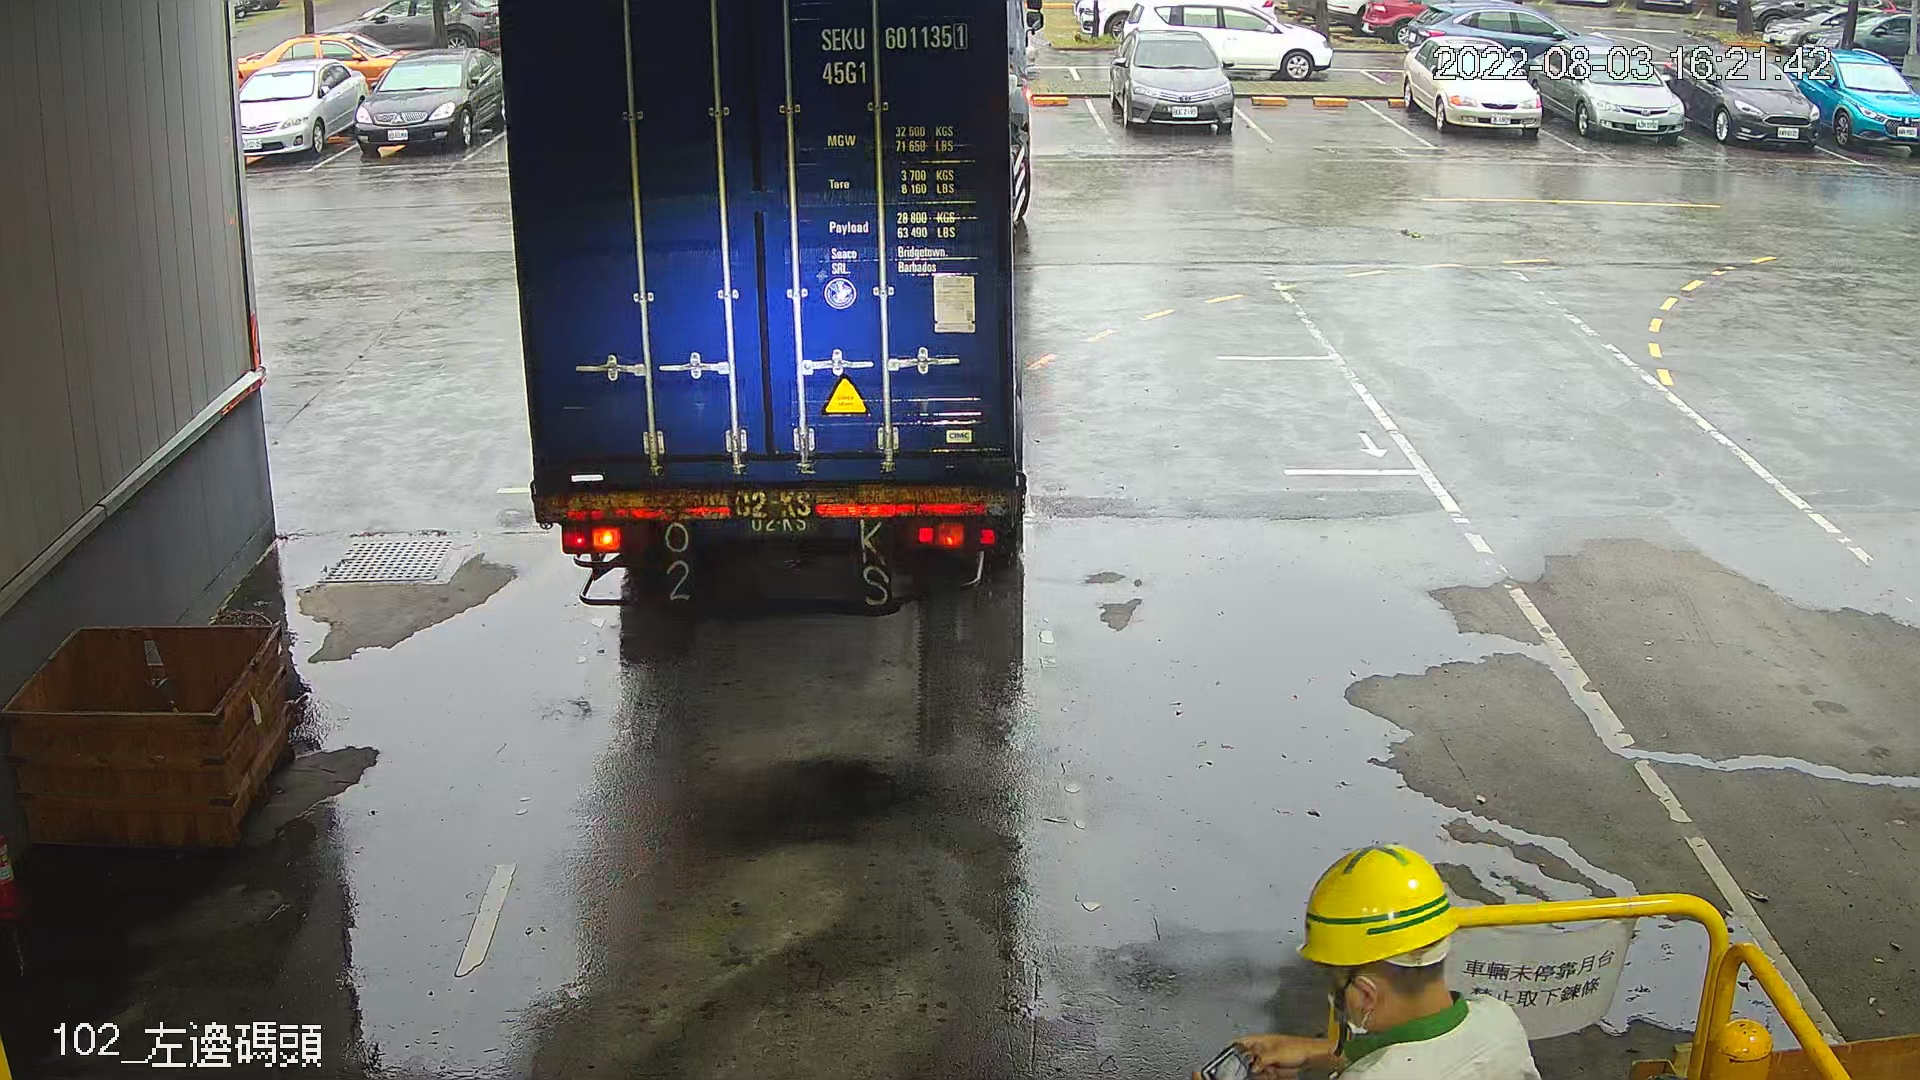container: (810, 11, 976, 98)
